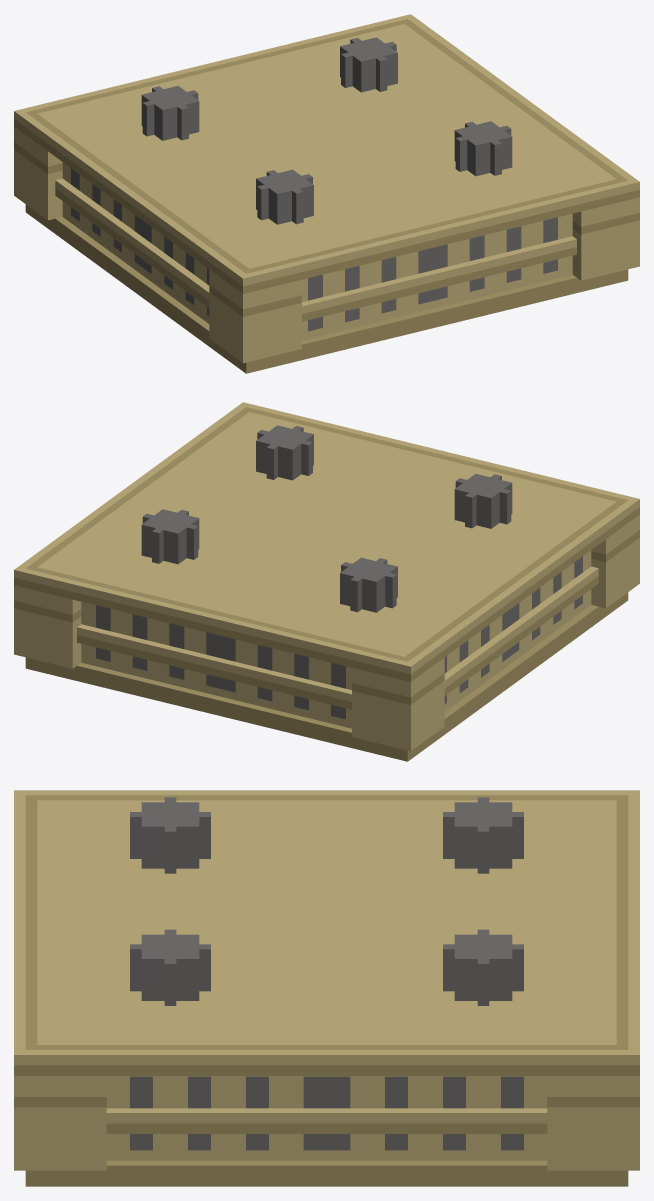
File: tier2.glb
3 views of the same model, one above another, from view 1: azimuth 30°, elevation 25°; view 2: azimuth 150°, elevation 25°; view 3: azimuth 270°, elevation 25° (orthographic). The views are drawn at different scales.
Bounding box in the file's own units: 54 × 17 × 54.
